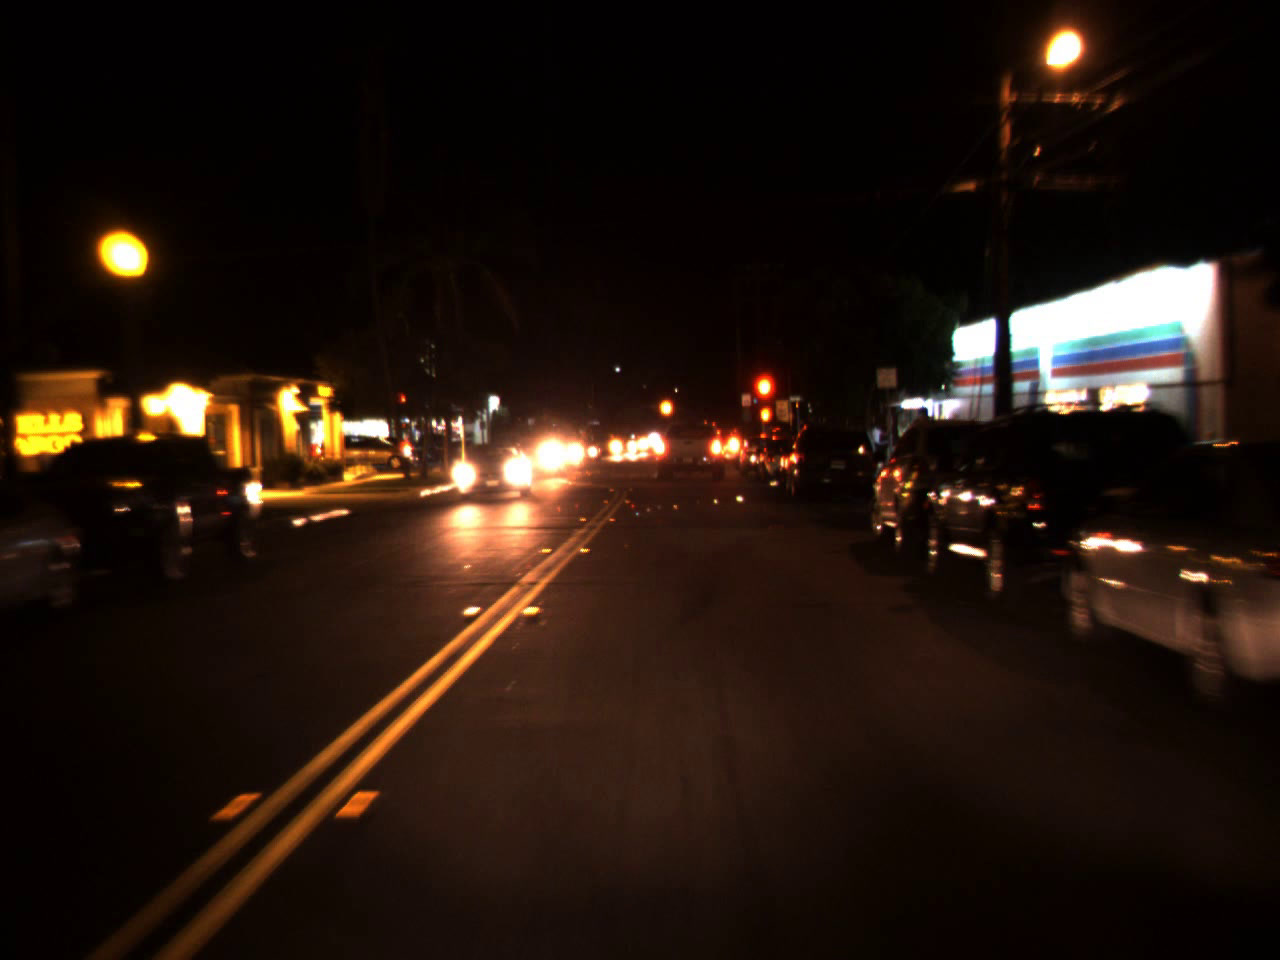stop: (749, 367, 779, 437), (393, 390, 409, 414)
warning: (656, 387, 675, 427)
